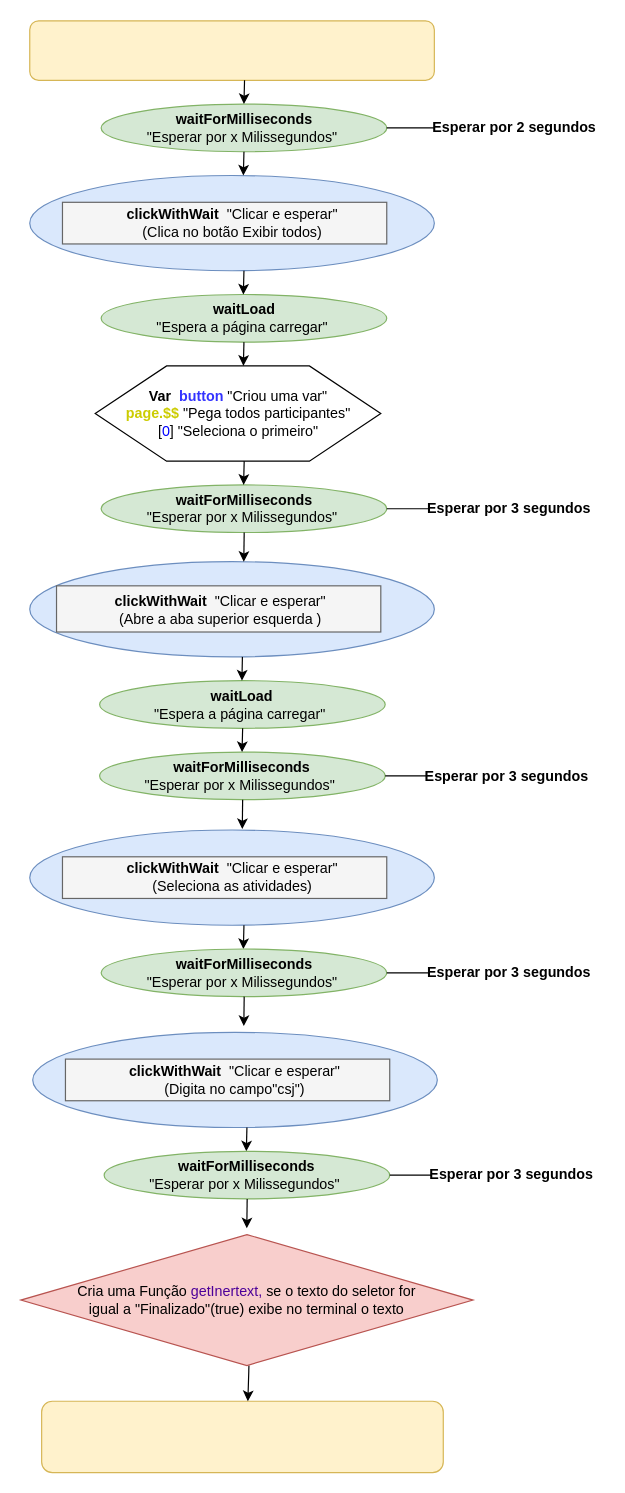
Some shapes in this 625 by 1493 pixel diagram are drawn without their labels. Each missing label, with the centre of its shape:
ABRE PÁGINA OTUS waitForMilliseconds "Esperar por milisegundos": (231,50)
FECHA PÁGINA OTUS: (241,1436)
